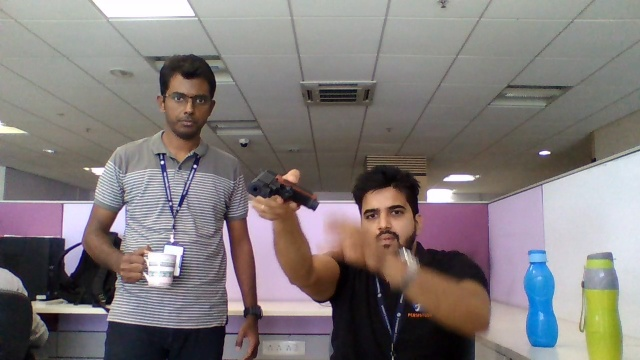gun: (248, 169, 283, 198)
